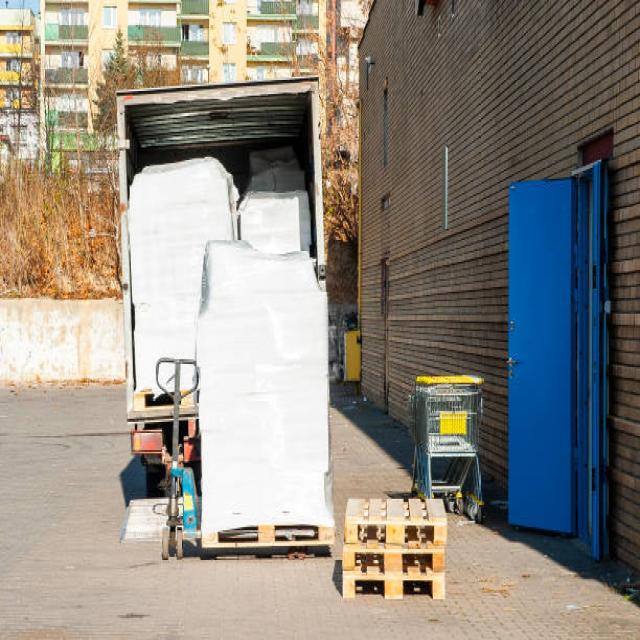Wooden-Pallets: (341, 493, 449, 602), (340, 492, 449, 552), (336, 569, 451, 616), (338, 542, 451, 586), (202, 522, 336, 550)
